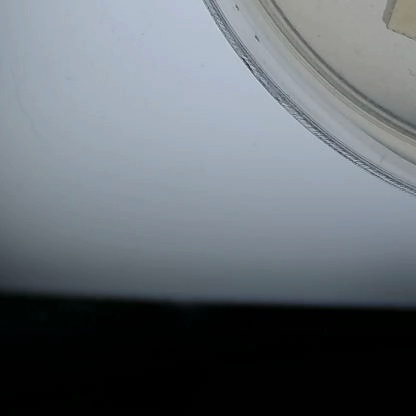worm: (402, 64, 416, 79)
